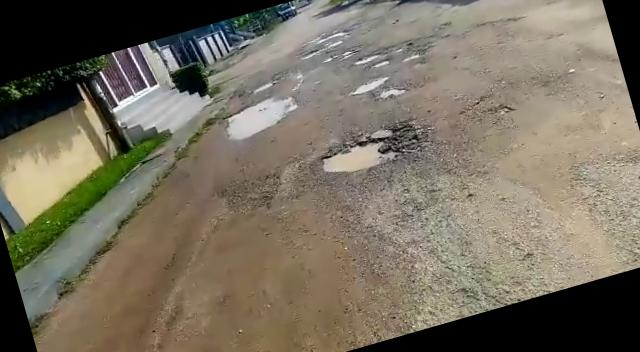pothole: (314, 118, 426, 182), (220, 91, 304, 141), (343, 74, 390, 98), (372, 82, 411, 103), (327, 44, 365, 62), (354, 49, 389, 65), (252, 80, 276, 94), (371, 58, 392, 70), (400, 53, 420, 64)
